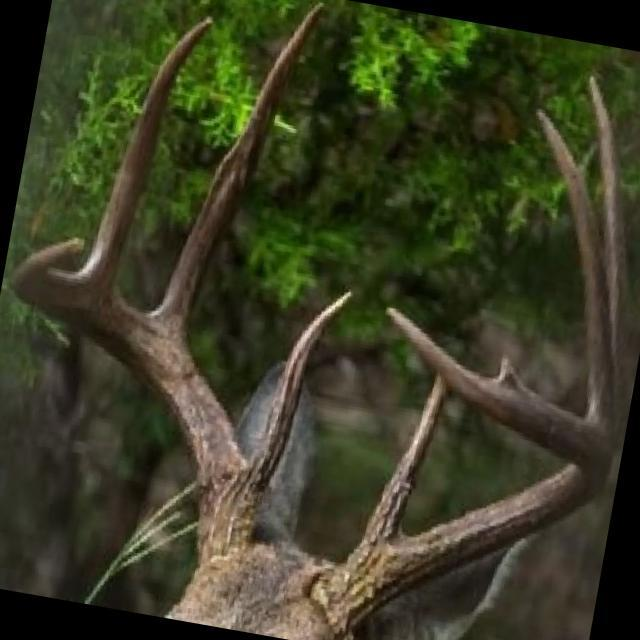E1: (495, 354, 523, 387)
L-F: (309, 303, 613, 640)
L-G1: (361, 379, 445, 546)
L-G3: (536, 106, 613, 442)
R-F: (8, 235, 255, 568)
R-G1: (245, 288, 354, 510)
R-G2: (151, 0, 325, 344)
R-G3: (78, 16, 215, 292)
